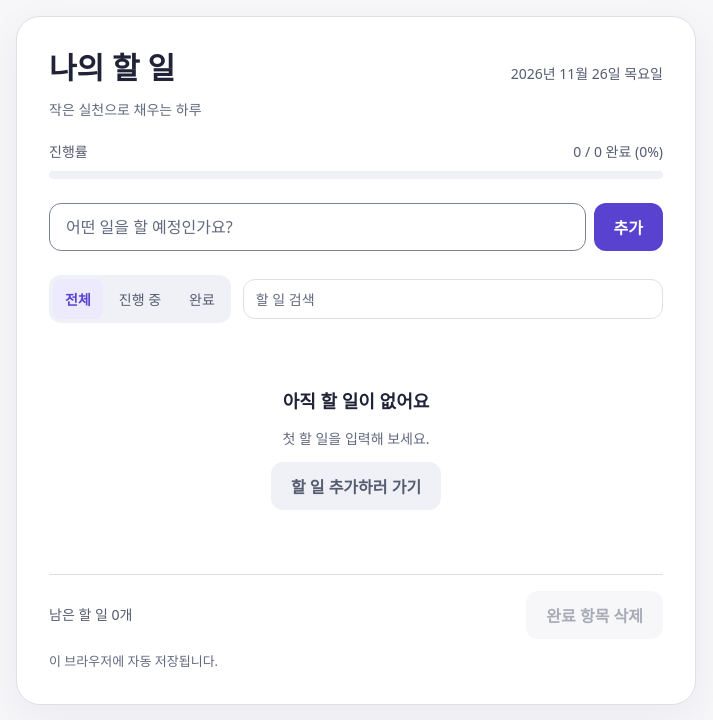
Test: App 통합 및 접근성 테스트 › 개별 삭제 시 실행 취소 스낵바가 표시되고 원래 항목으로 복원된다
Type "삭제할 항목" into the field with placeholder "어떤 일을 할 예정인가요?". click: (317, 227)
box: 49,203 -> 586,251
Then press Enter
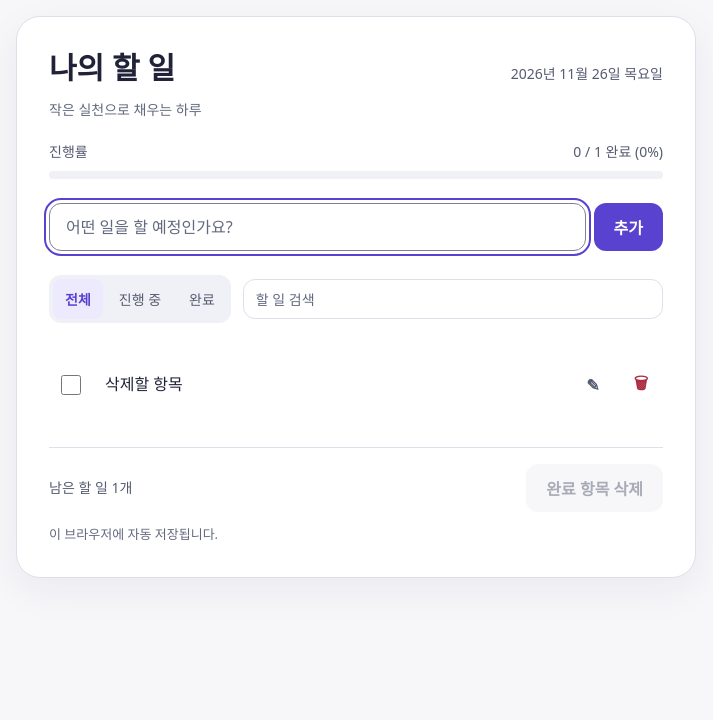
Click the button titled "삭제". click: (641, 385)
box: 619,363 -> 663,407
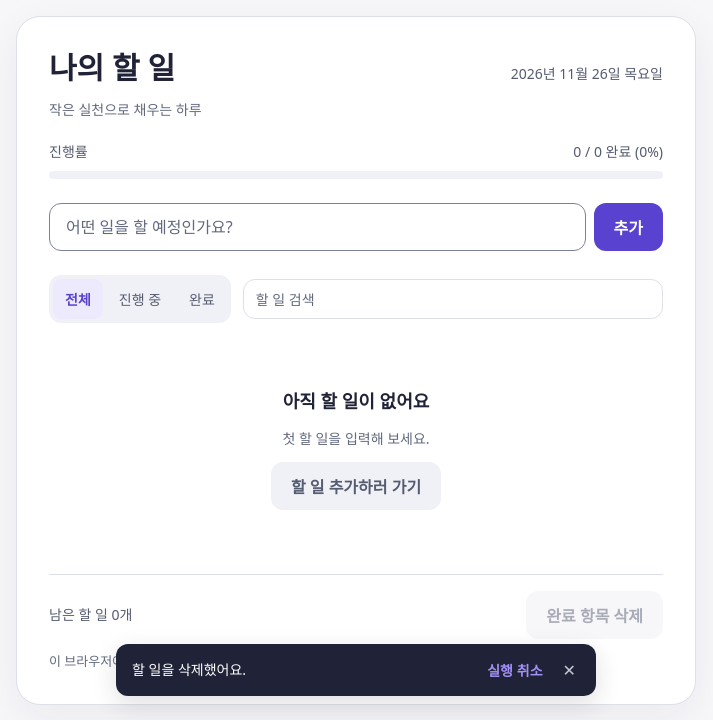
Expected: the text "삭제할 항목" is gone
Expected: the text "할 일을 삭제했어요." is shown, 132,660 -> 246,679
Click the button with aria-label "삭제한 할 일 복원하기". click: (515, 670)
box: 479,656 -> 551,684
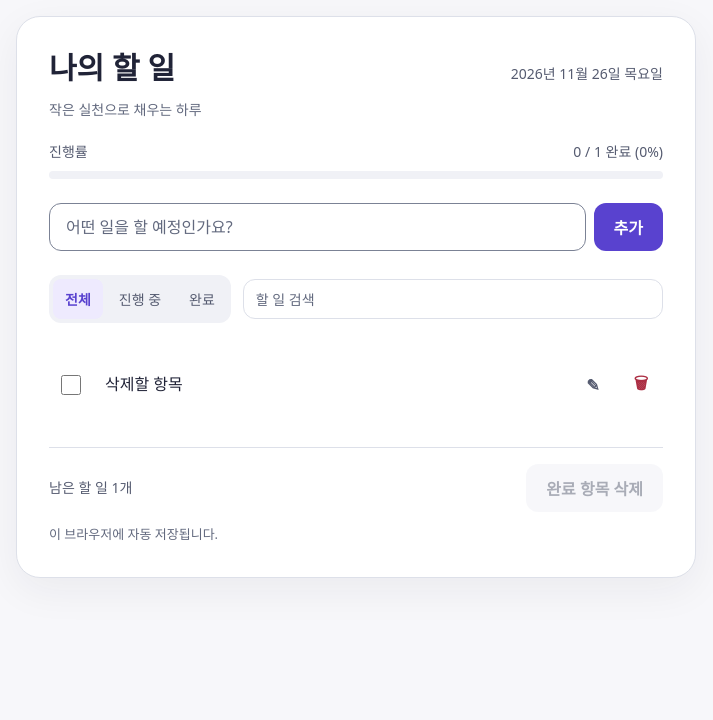
Expected: the text "삭제할 항목" is shown, 105,374 -> 183,396
